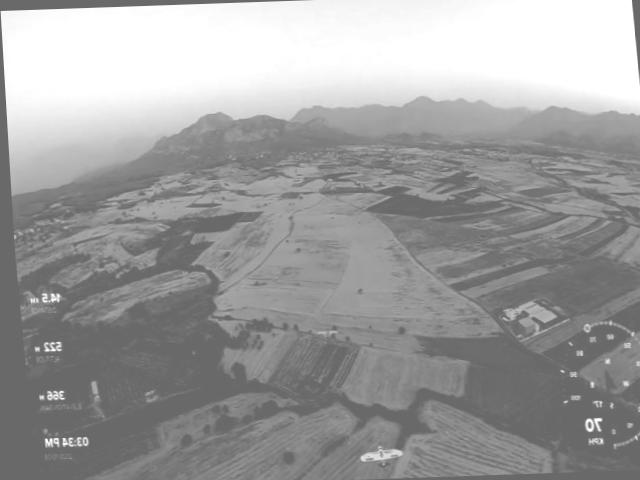hedef: (348, 434, 403, 473)
